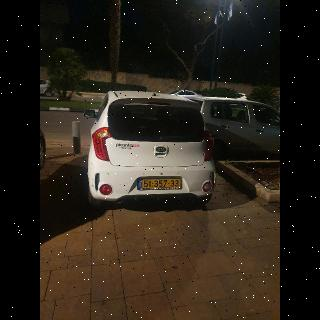LicensePlate: (143, 179, 181, 187)
